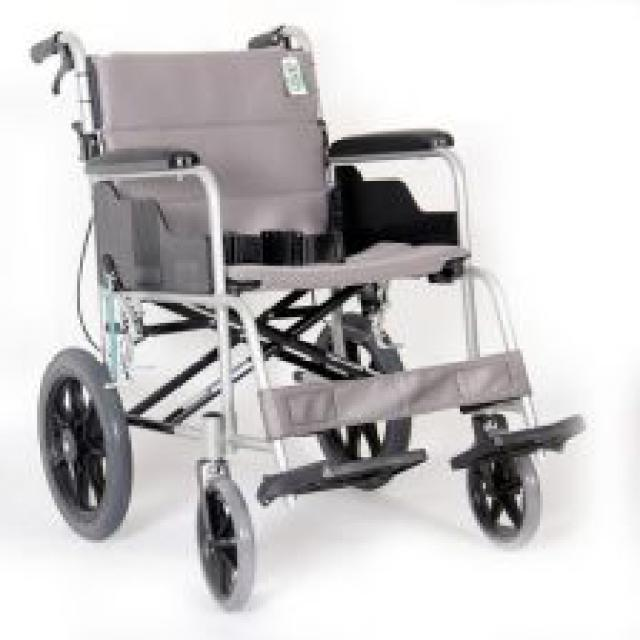wheelchair: (20, 17, 583, 620)
